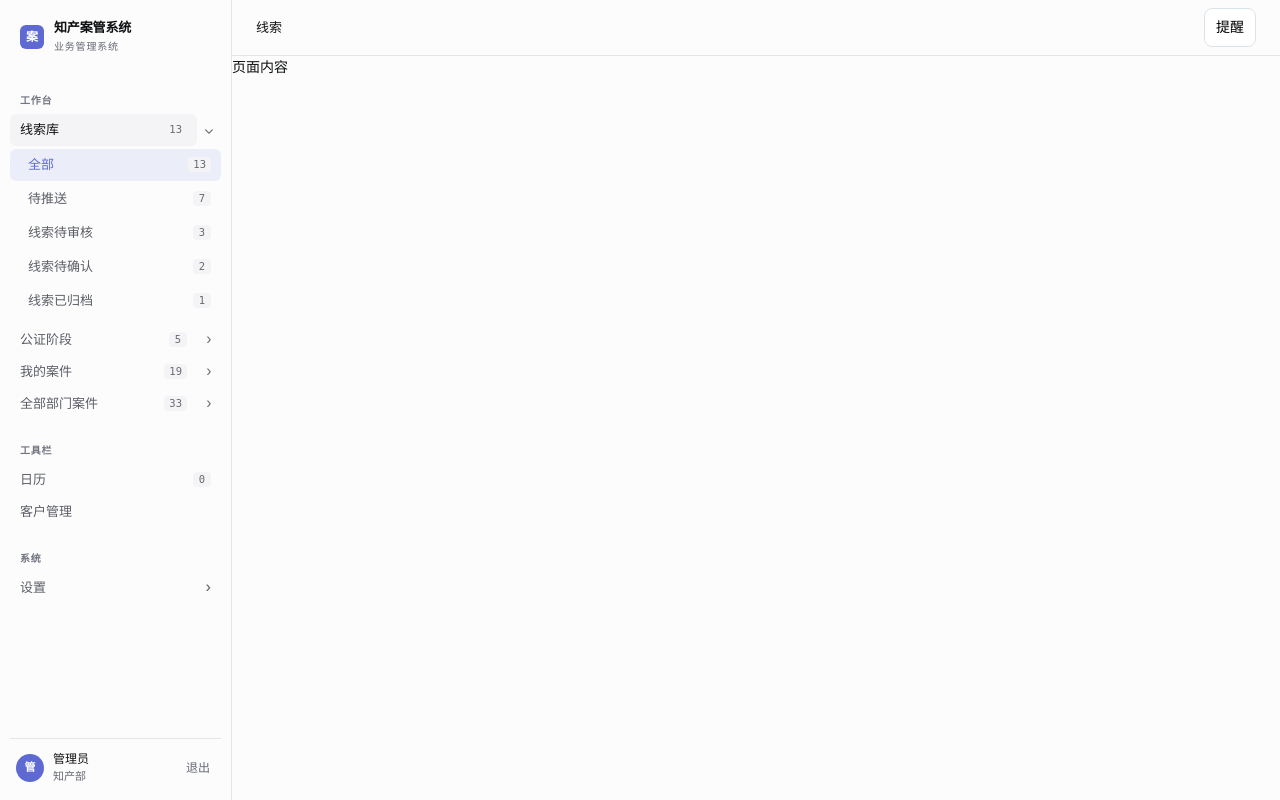
Test: AppShell › adds one formal acceptance stage link with its current count
Click the button with test id "case-expand" at (209, 372), box [197,358,221,386]
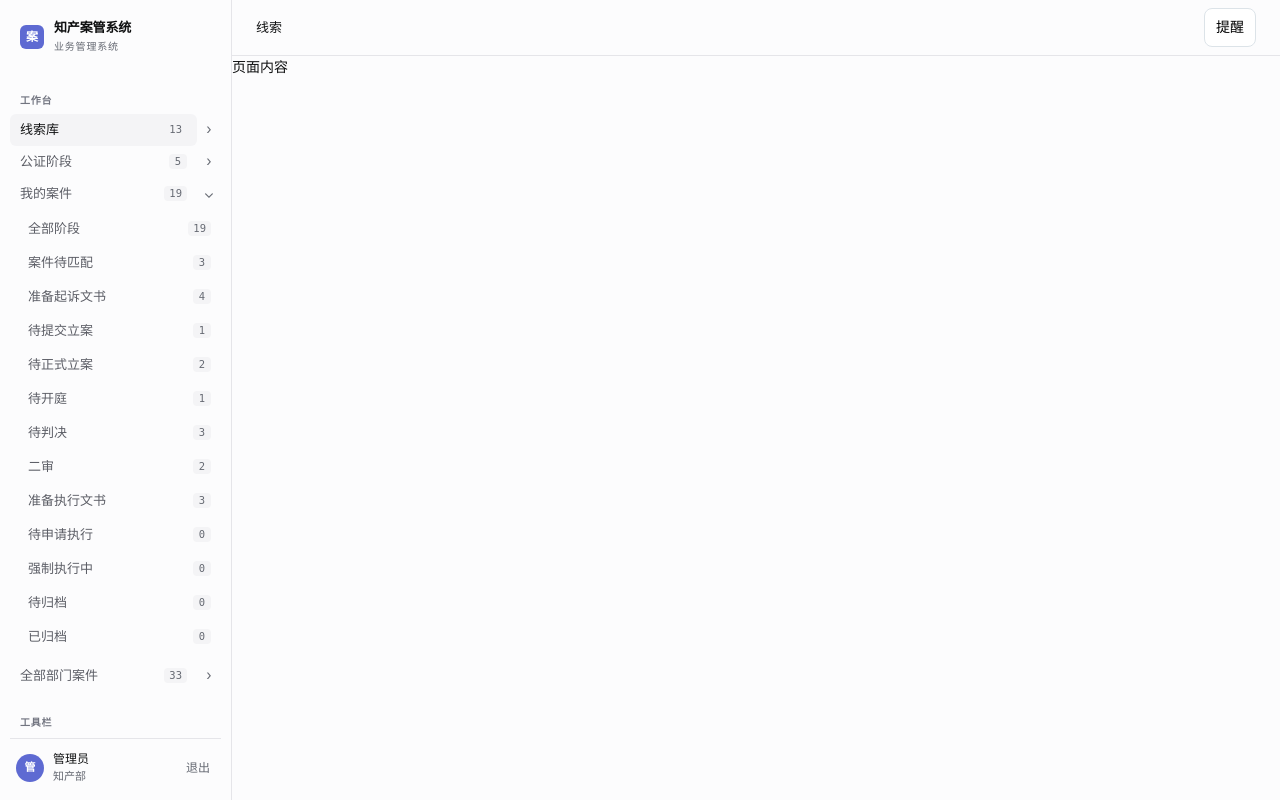
Check: the link with test id "case-view-mine" shows "19", box [20,185,187,201]
Check: the number of links with test id "case-stage" is 10
Check: the link with test id "execution-preparation-stage" shows "准备执行文书", box [28,492,211,508]
